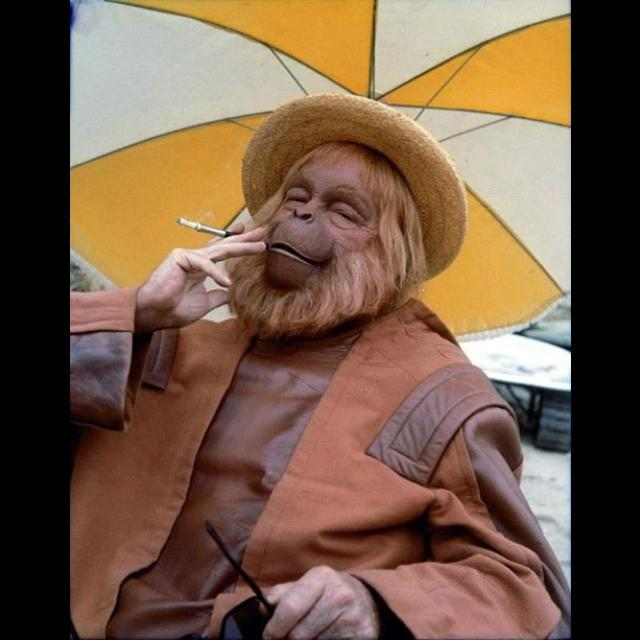rokok: (173, 214, 214, 236)
